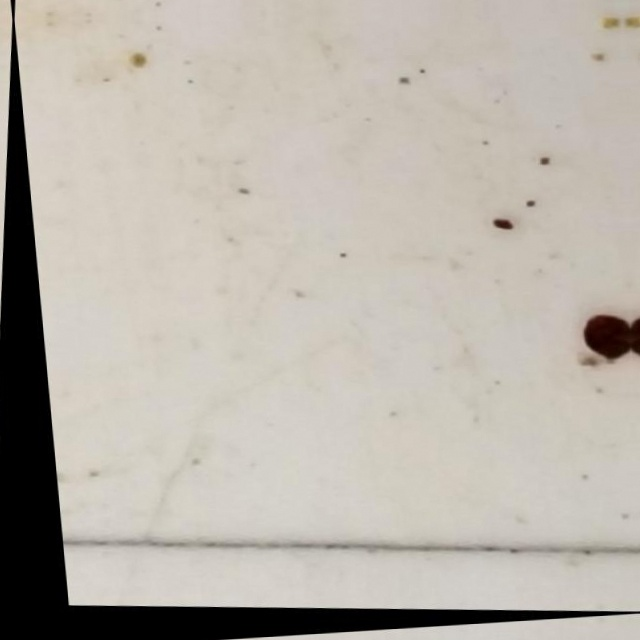varroa: (576, 312, 630, 362)
